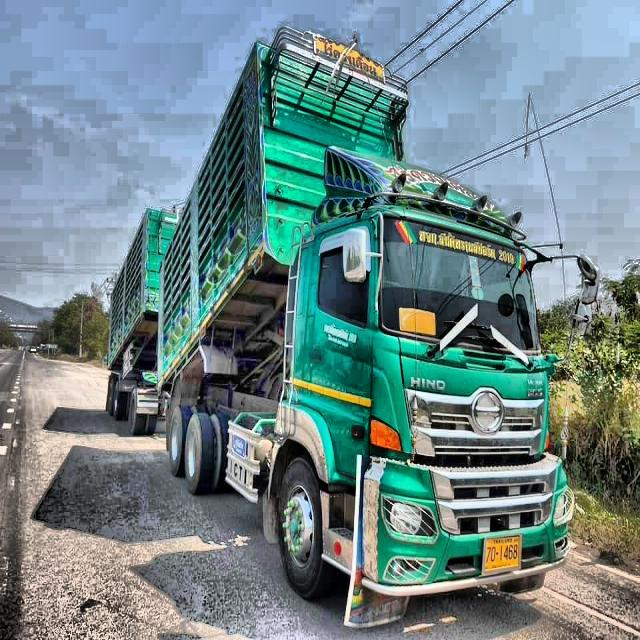trailer: (96, 5, 585, 640)
